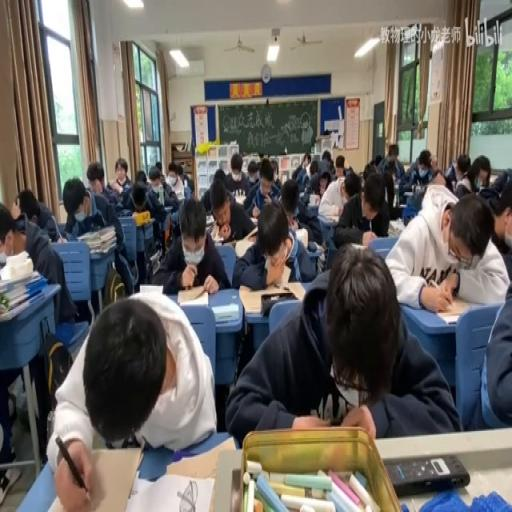calculator: (44, 445, 142, 509), (128, 471, 215, 512), (386, 454, 470, 496), (164, 434, 234, 480), (238, 280, 305, 314), (434, 296, 472, 321), (176, 286, 208, 306), (210, 302, 238, 322), (54, 322, 75, 346), (277, 263, 292, 286), (148, 248, 161, 273), (134, 214, 157, 228), (138, 284, 164, 296), (294, 224, 307, 248), (302, 199, 320, 215), (346, 240, 369, 252), (386, 218, 402, 234), (310, 239, 324, 252), (205, 218, 214, 236), (398, 202, 408, 218), (234, 193, 246, 205), (218, 239, 236, 247), (322, 215, 338, 223), (248, 216, 258, 225), (164, 203, 173, 212), (404, 191, 414, 199)
paper: (226, 245, 452, 441), (1, 192, 81, 465), (382, 182, 508, 310), (64, 176, 134, 302), (462, 264, 510, 431), (230, 199, 313, 292), (156, 196, 229, 296), (332, 170, 390, 250), (398, 146, 434, 204), (456, 154, 489, 198), (149, 164, 178, 209), (224, 152, 250, 198), (105, 157, 130, 199), (488, 204, 510, 248), (379, 144, 403, 182), (279, 179, 300, 222), (15, 189, 40, 225), (243, 176, 266, 214), (291, 151, 311, 186), (86, 161, 106, 195), (488, 169, 509, 195), (332, 155, 347, 183), (344, 174, 359, 200), (430, 171, 450, 189), (175, 162, 187, 188), (131, 190, 145, 212), (213, 166, 227, 185), (362, 163, 374, 185), (318, 159, 330, 179), (269, 158, 278, 180), (134, 168, 148, 182), (373, 154, 382, 169), (309, 161, 318, 176), (248, 169, 258, 182), (321, 151, 330, 162), (429, 156, 436, 170), (168, 174, 177, 184), (154, 160, 162, 170), (384, 161, 394, 169), (159, 175, 166, 186), (304, 158, 310, 168), (322, 128, 330, 134)
person: (230, 466, 242, 510)
